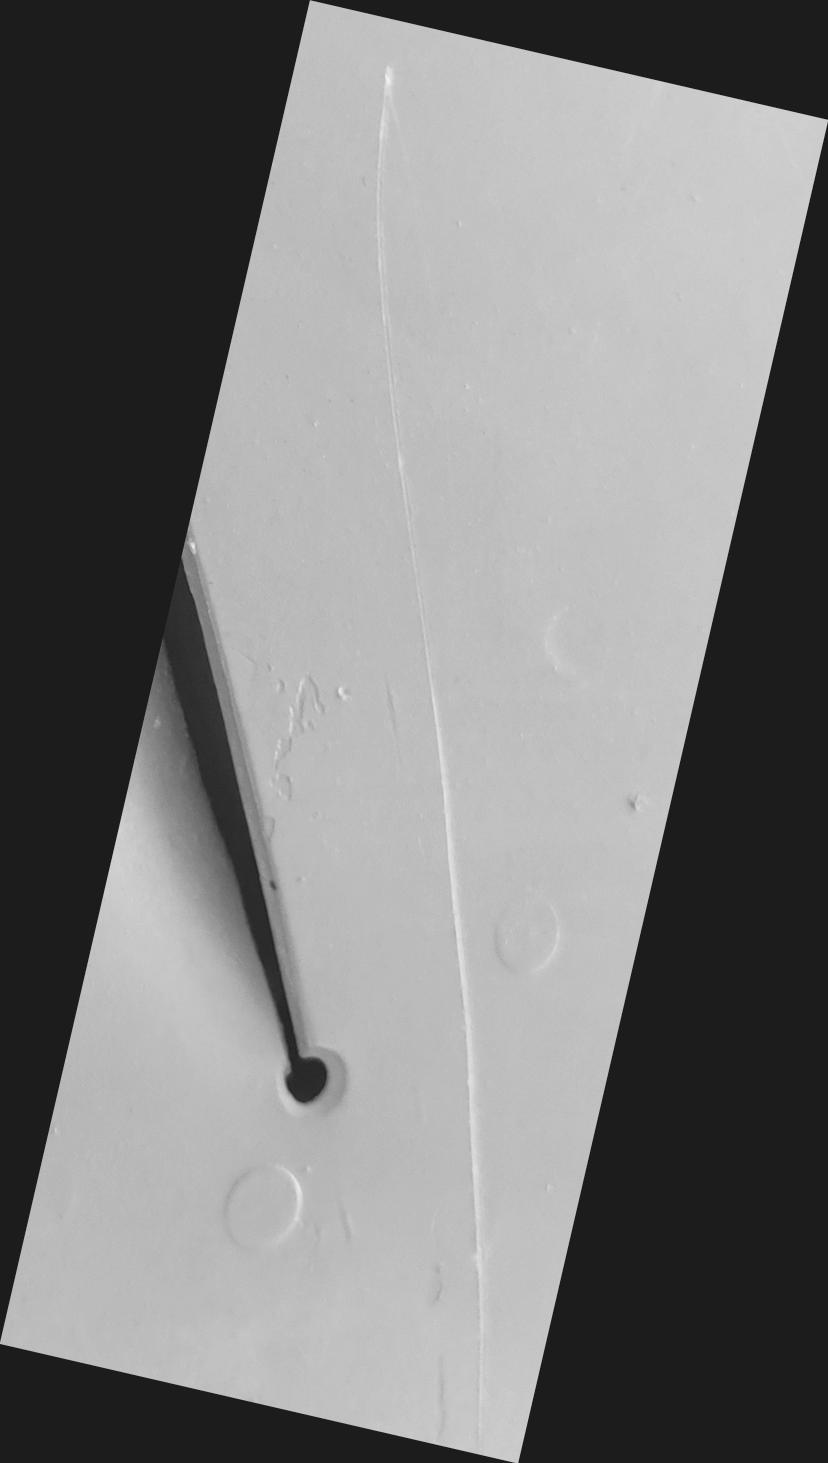scratch: (1, 1, 828, 1463)
